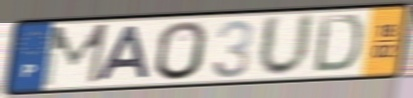3: (211, 17, 255, 79)
A: (94, 23, 152, 83)
D: (310, 13, 365, 74)
M: (39, 21, 111, 90)
O: (154, 19, 210, 82)
U: (255, 11, 317, 80)
